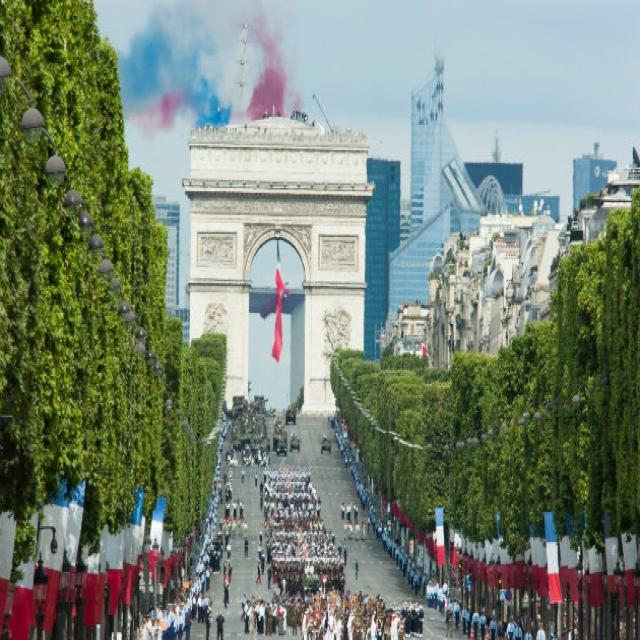body: (263, 466, 342, 561), (300, 599, 418, 640), (216, 403, 272, 469), (272, 559, 346, 602), (192, 498, 222, 569), (548, 607, 583, 640), (147, 596, 196, 618), (256, 106, 310, 125), (272, 416, 300, 452), (169, 569, 204, 597), (447, 556, 467, 600), (425, 575, 447, 613), (616, 603, 638, 640), (211, 468, 234, 499), (374, 515, 392, 552), (398, 547, 415, 586), (162, 618, 192, 640), (344, 588, 384, 602), (222, 520, 244, 544), (334, 425, 346, 455), (283, 401, 300, 422), (276, 602, 286, 637), (288, 602, 298, 637), (243, 599, 252, 635), (478, 596, 496, 614), (366, 496, 376, 528), (216, 608, 226, 638), (327, 411, 340, 434), (444, 606, 453, 638), (280, 600, 288, 636), (222, 572, 230, 608), (257, 599, 265, 634), (270, 599, 278, 634), (358, 479, 367, 509), (352, 464, 361, 494), (344, 447, 354, 474), (254, 599, 262, 632), (319, 432, 331, 454), (263, 600, 270, 636), (392, 534, 400, 564), (488, 614, 497, 640), (138, 615, 148, 638), (152, 615, 162, 638), (239, 593, 247, 621), (196, 591, 203, 623), (453, 598, 460, 630), (472, 606, 479, 638), (478, 610, 486, 638), (256, 529, 263, 561), (204, 608, 211, 638), (144, 612, 152, 638), (505, 615, 514, 638), (534, 621, 546, 638), (230, 498, 238, 523), (203, 592, 210, 620), (254, 558, 261, 586), (266, 605, 272, 637), (460, 604, 466, 636), (466, 607, 472, 638), (224, 498, 232, 521), (148, 616, 156, 638), (346, 518, 354, 540), (354, 517, 361, 542), (200, 594, 206, 623), (447, 597, 454, 621), (259, 482, 265, 509), (266, 564, 272, 591), (497, 618, 505, 638), (422, 570, 428, 596), (204, 566, 210, 592), (418, 604, 423, 635), (513, 621, 522, 638), (226, 539, 232, 564), (416, 566, 422, 591), (238, 498, 244, 523), (342, 542, 348, 566), (352, 499, 358, 523), (346, 499, 352, 522), (228, 562, 234, 584), (342, 520, 348, 542), (360, 518, 366, 540), (243, 520, 249, 542), (250, 593, 261, 605), (243, 534, 248, 560), (414, 570, 419, 596), (260, 550, 265, 574), (240, 465, 246, 485), (341, 499, 346, 522), (523, 626, 532, 638), (222, 556, 226, 582), (208, 599, 212, 623), (253, 469, 258, 488), (354, 558, 358, 580)
